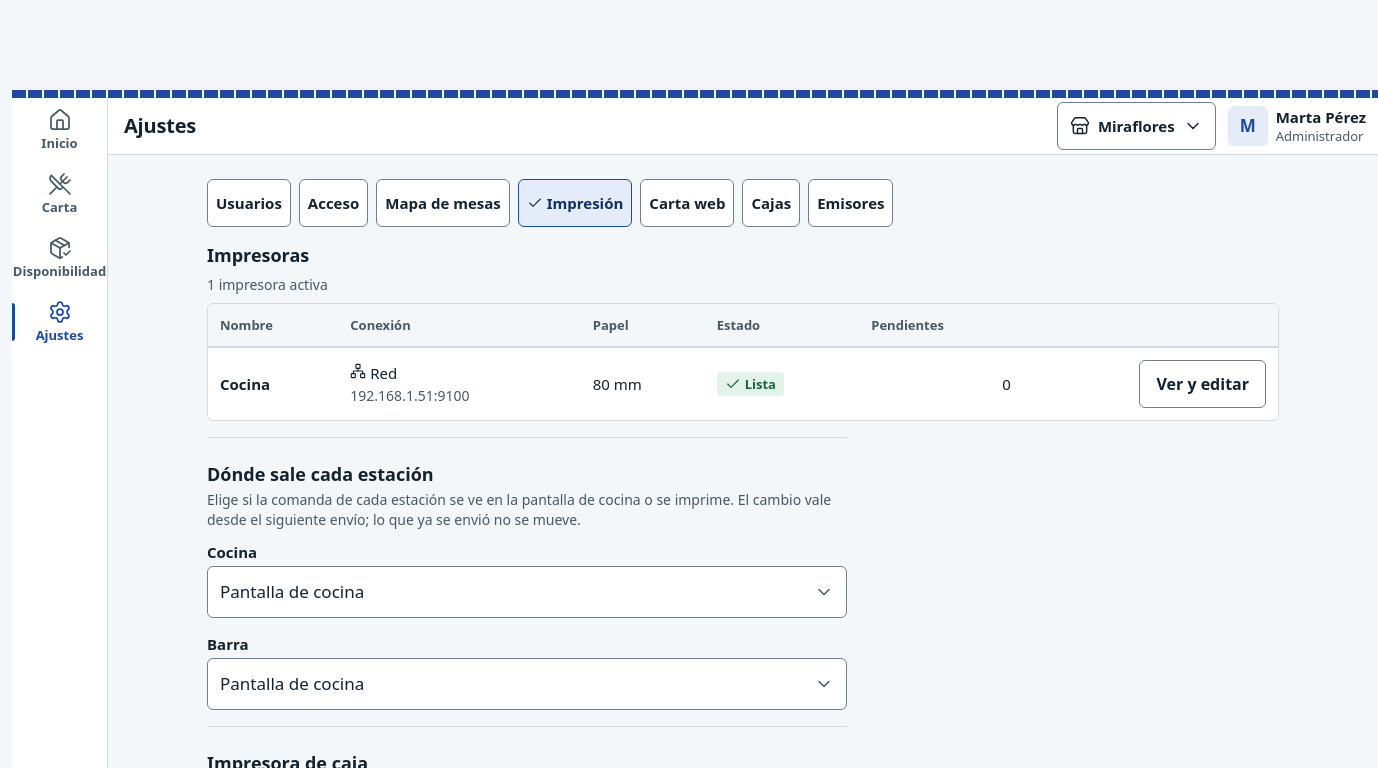
Test: Ajustes › Impresión: crear (criterios 103 y 136) › al modificar una impresora también vuelve a pedir el estado
The image size is (1378, 768).
(page scrolled)
expect the heading "Impresoras" is shown: met, box [207,243,309,267]
Step 1. Click the button named "Cocina" → (1203,384), box [1139,360,1266,408]
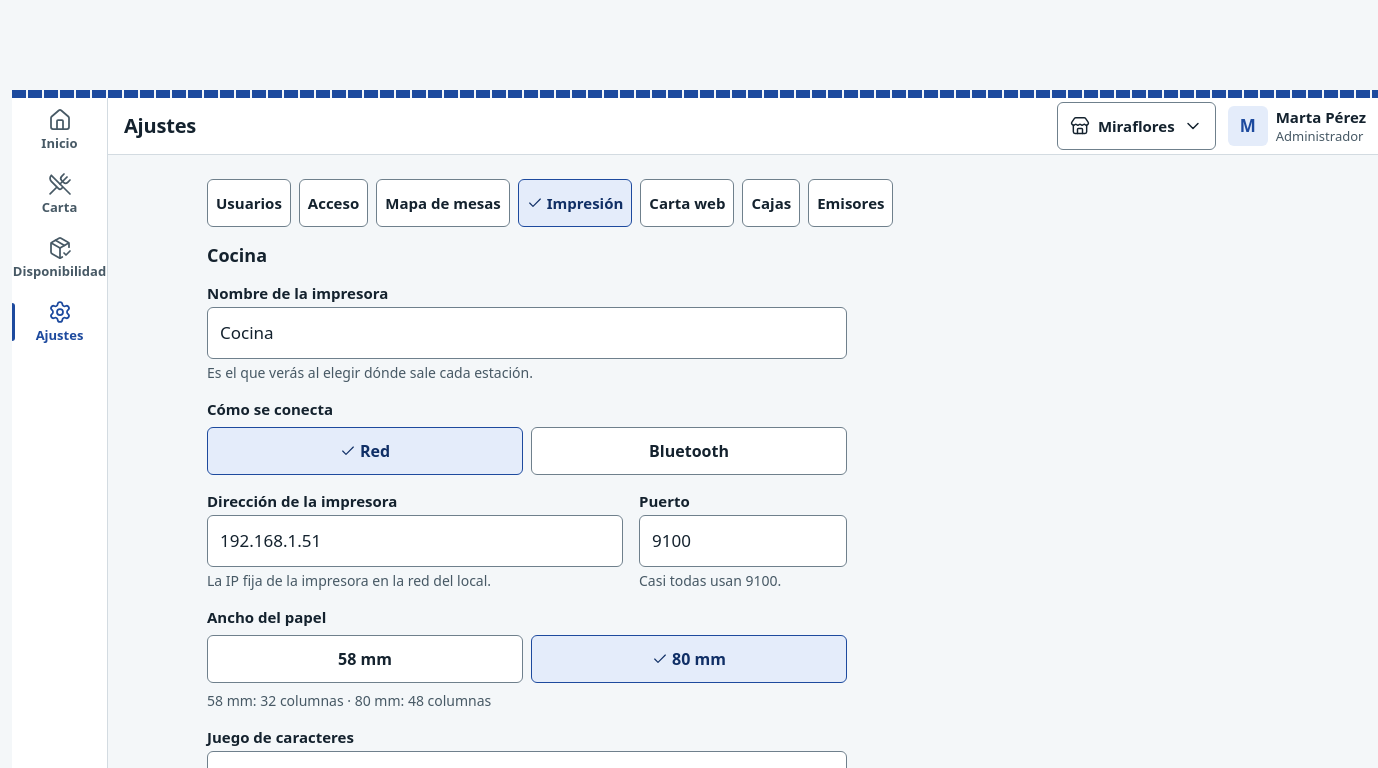
Step 2. Click the button "58 mm" → (365,659), box [207,635,523,683]
(page scrolled)
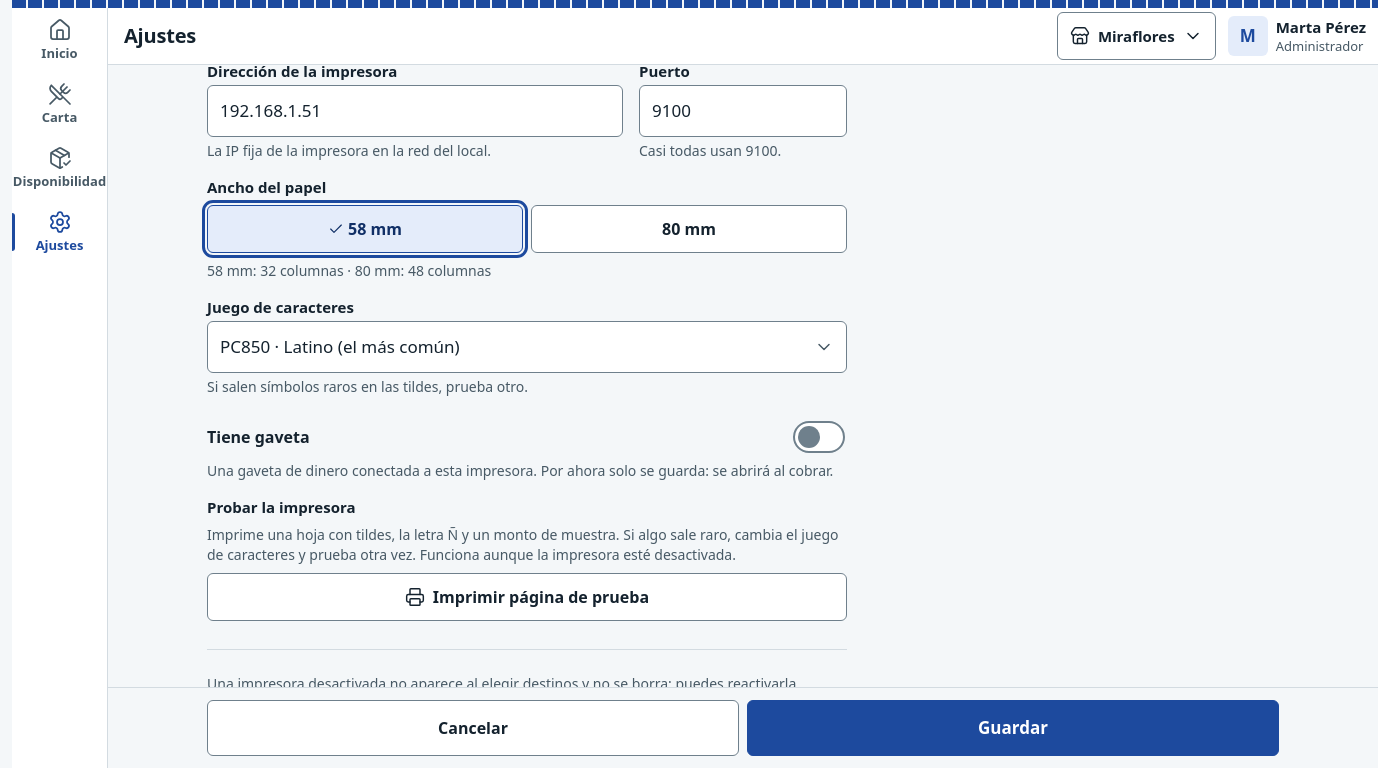
Step 3. Click the button "Guardar" → (1013,728), box [747,700,1279,756]
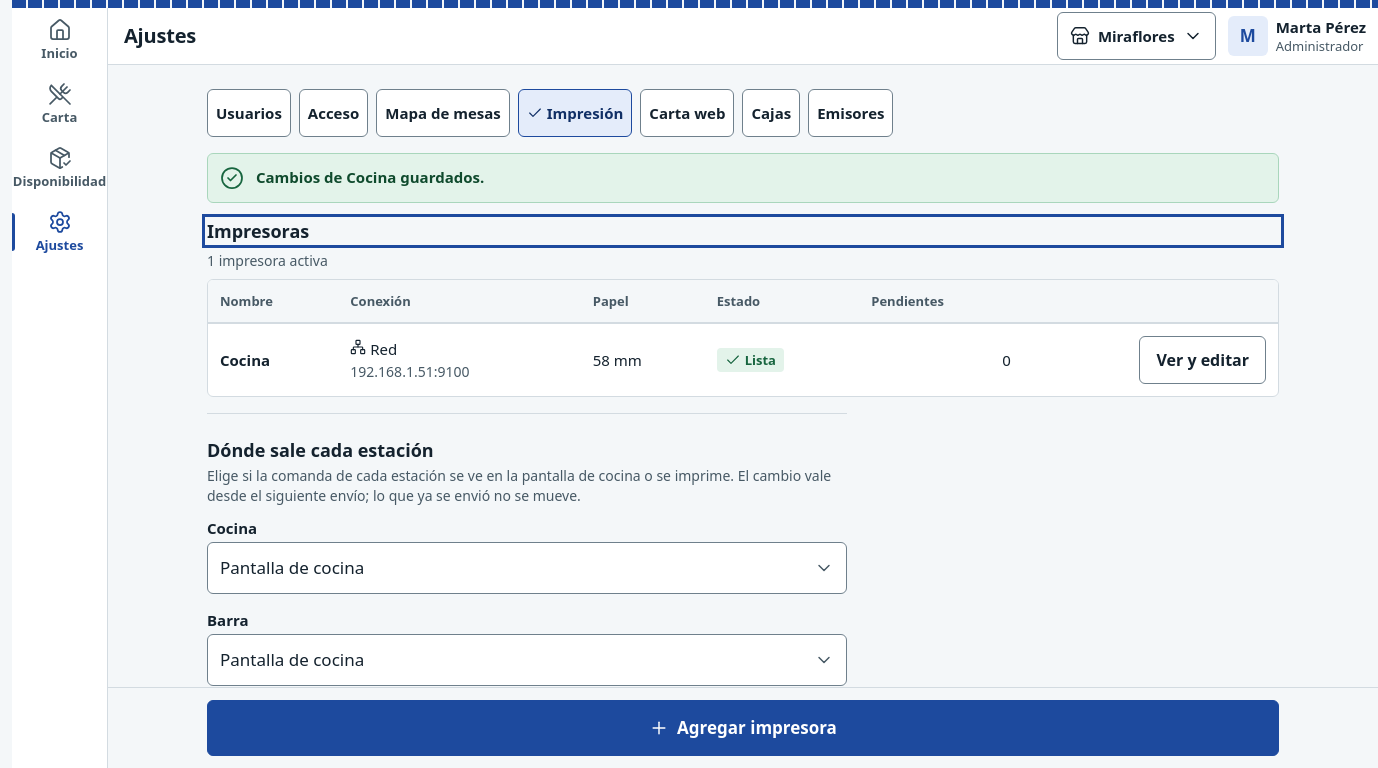
expect the text "Cambios de Cocina guardados." is shown: met, box [256,167,484,187]
